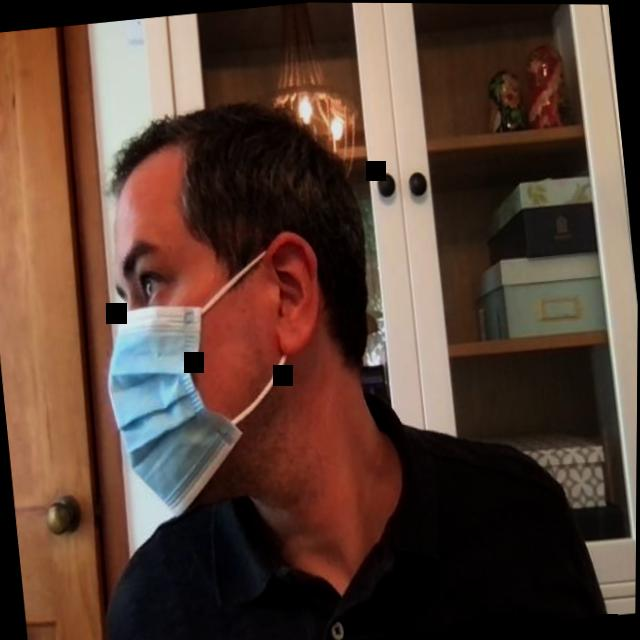Mask: (78, 86, 397, 521)
